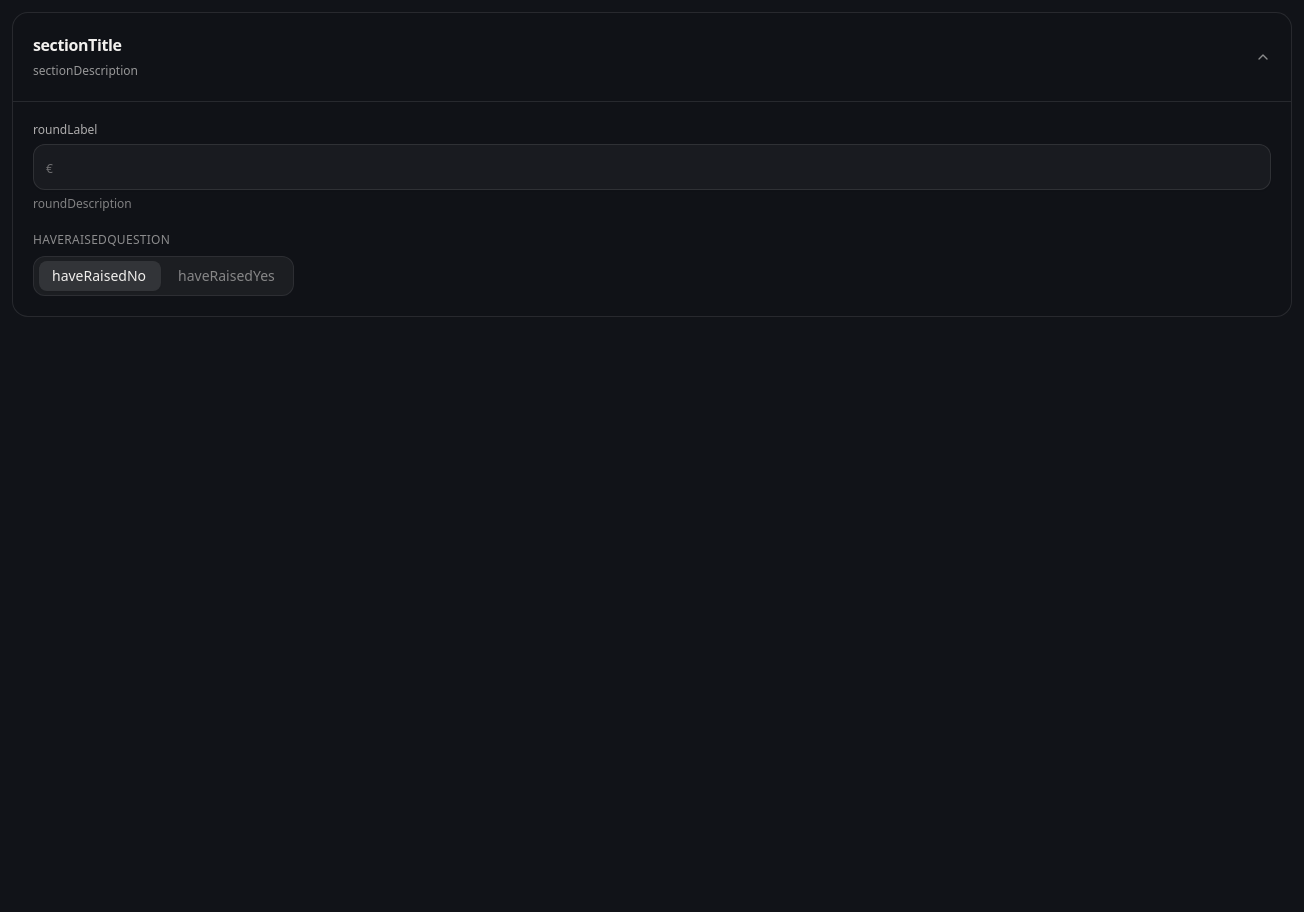
it: CapitalHistorySection › toggling "Raised before" enables the SAFE editor + option pool inputs
expect the heading "capitalHistoryTitle" is not shown: met
Click the radio button "haveRaisedYes".
click(226, 276)  # box [164,260,289,292]
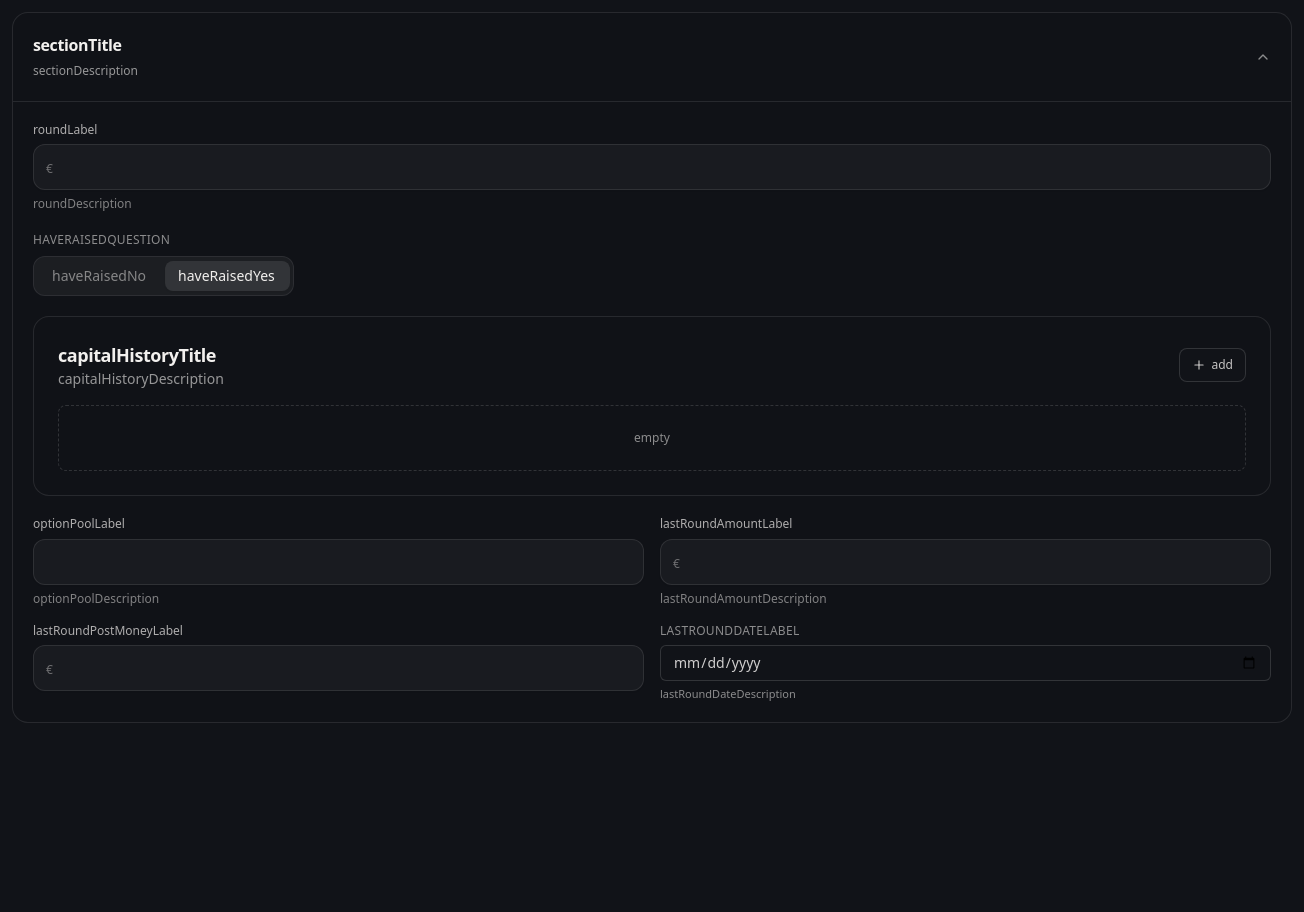
expect the heading "capitalHistoryTitle" is shown: met, box [58,341,224,369]
expect the text "optionPoolLabel" is shown: met, box [33,516,125,532]
expect the text "lastRoundAmountLabel" is shown: met, box [660,516,792,532]
